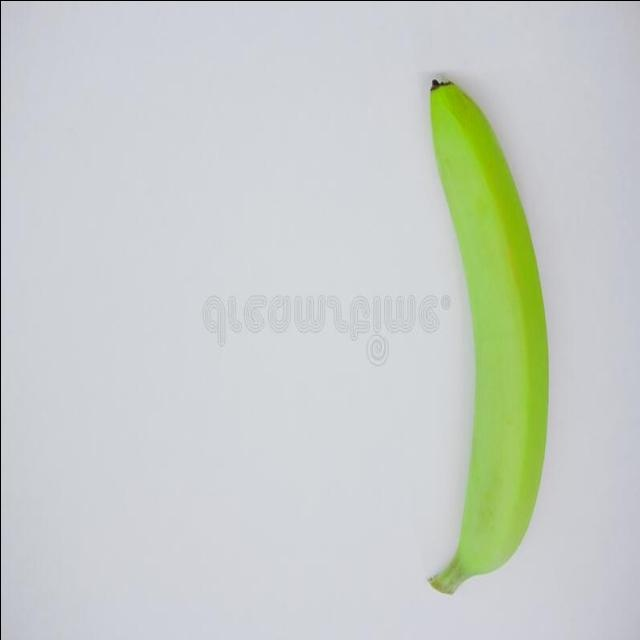agrume: (424, 77, 551, 599)
